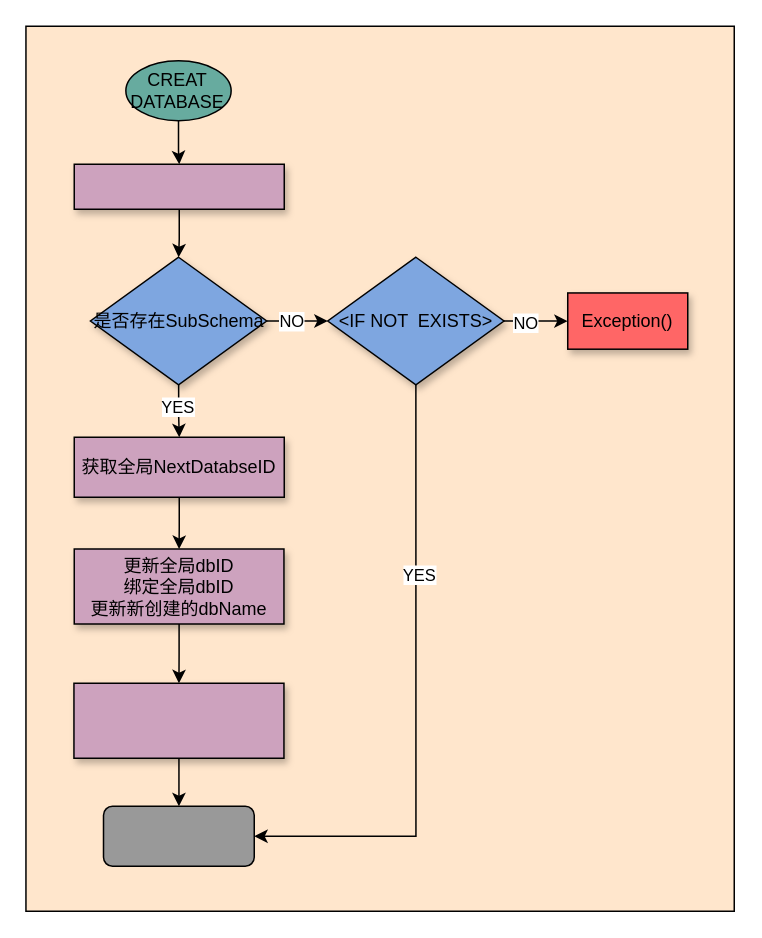
The diagram is 762 pixels wide and 938 high, and some of its shapes have lost their labels. Each missing label, with the centre of its shape:
"Get rootSchema" goes at point 180,188.
"更新dbNames元信息 更新dbID-dbName Map" goes at point 179,722.
"结束" goes at point 178,835.
